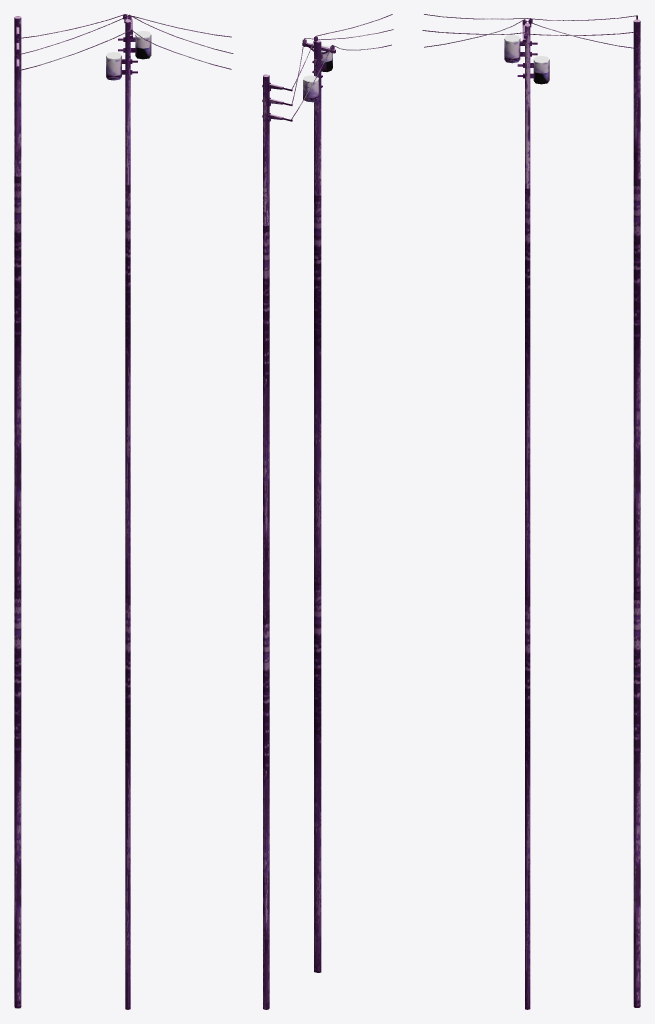
The model's file is summer-dreams-utility.glb.
The picture shows the model from 3 angles, left to right: view 1: azimuth 90°, elevation 25°; view 2: azimuth 150°, elevation 25°; view 3: azimuth 270°, elevation 25°; orthographic projection. The views are drawn at different scales.
Visible parts, largest first — view 1: Cube1; view 2: Cube1; view 3: Cube1.
Boxes of the visible parts, <box> form: Cube1: <box>14,14,233,1009</box>; Cube1: <box>262,14,393,1009</box>; Cube1: <box>422,14,640,1009</box>.
Bounding box in the file's own units: 8.96 × 188 × 37.49.
1 material, 1 textured.
